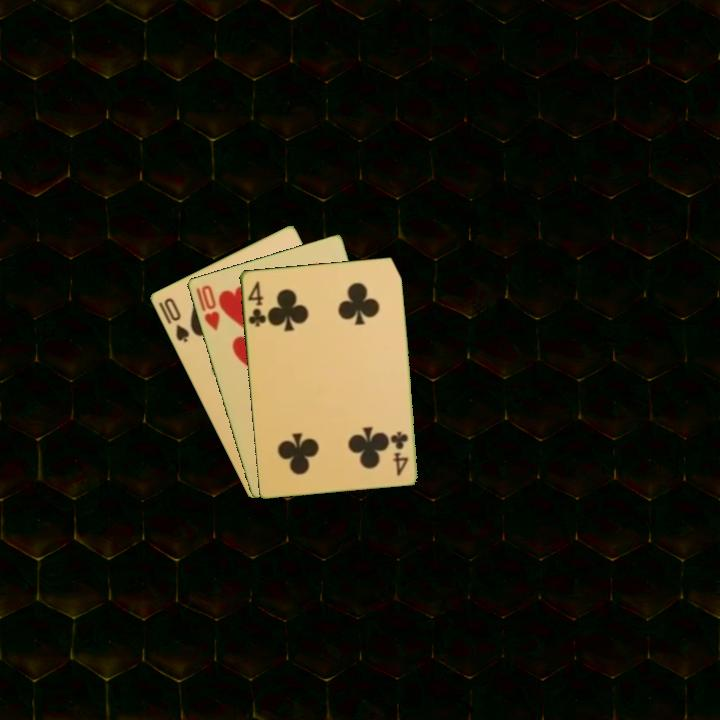10h: (192, 281, 222, 334)
10s: (160, 294, 192, 345)
4c: (244, 277, 268, 329), (389, 427, 411, 479)
